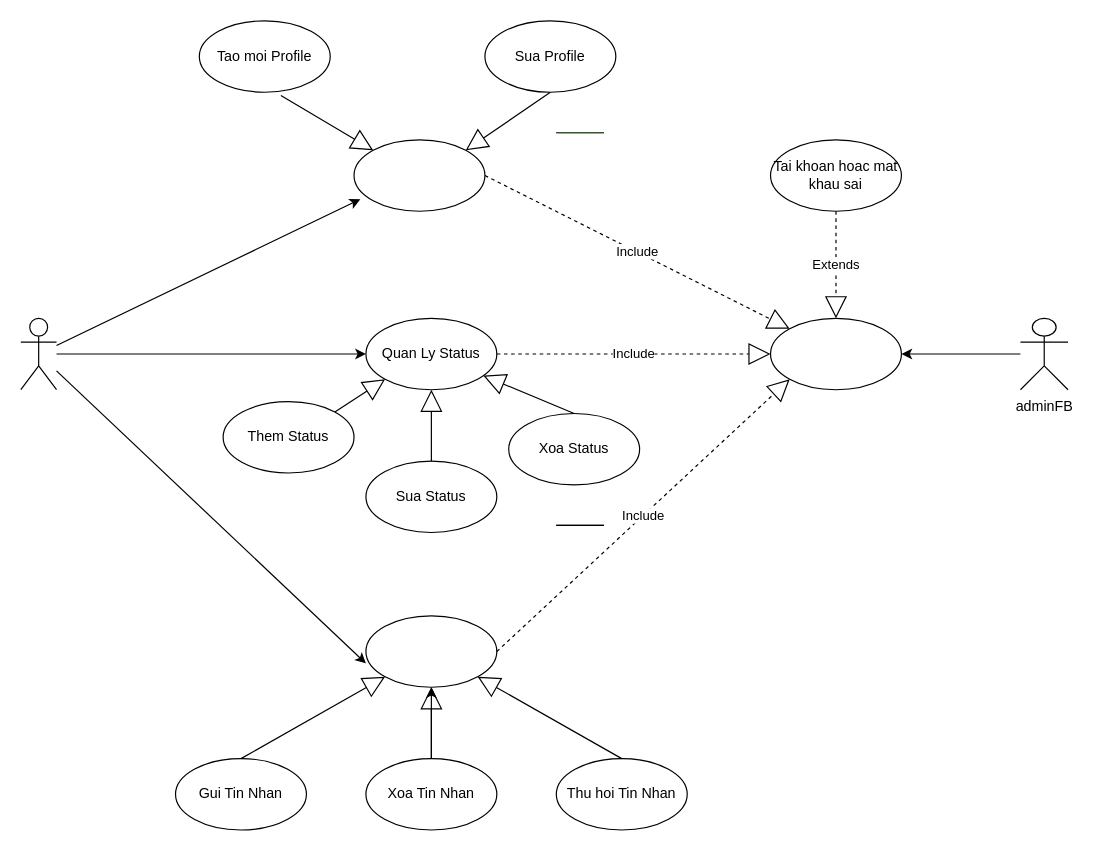
This 1094x851 diagram has some shape labels left out. The box of each missing label's shape, as (x1, y1, x2, y2) in pixels:
Dang Nhap: (769, 317, 901, 390)
Quan Ly Profile: (353, 139, 485, 211)
Quan Ly Tin Nhan: (365, 615, 497, 687)
User: (20, 317, 57, 390)
